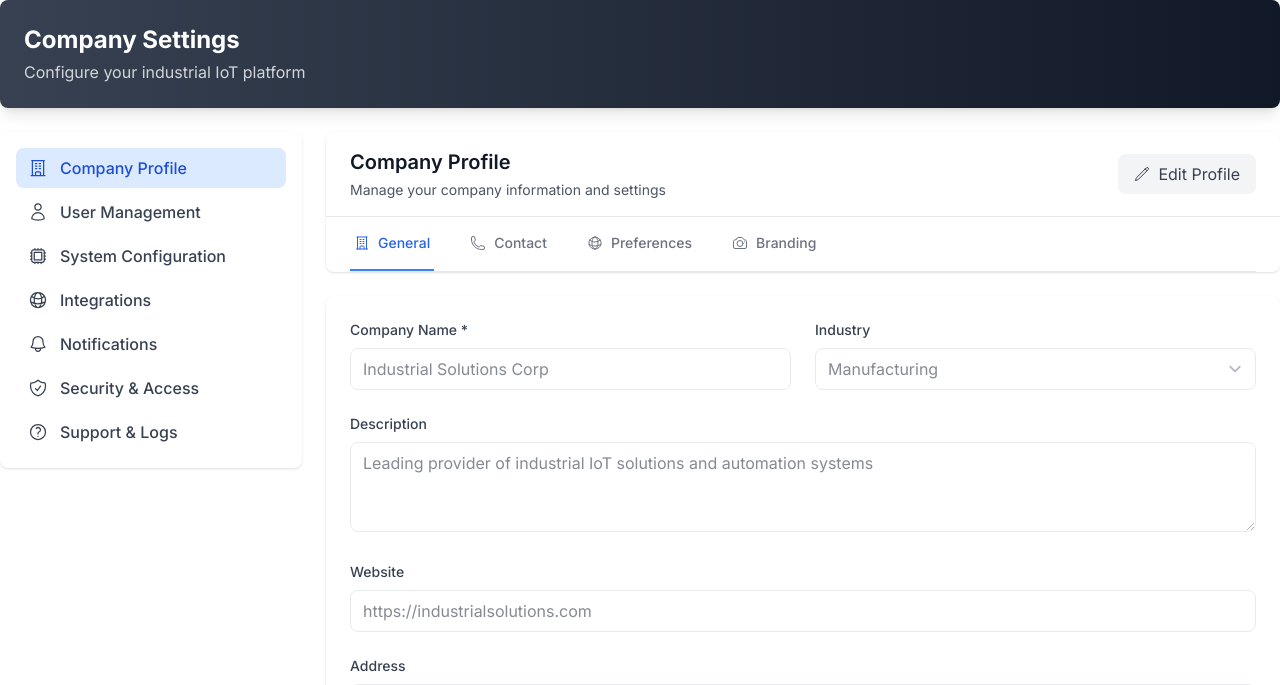
Test: CompanySettings › shows placeholder for security section
Click the button "Security & Access".
click(151, 388)  # box [16,368,286,408]
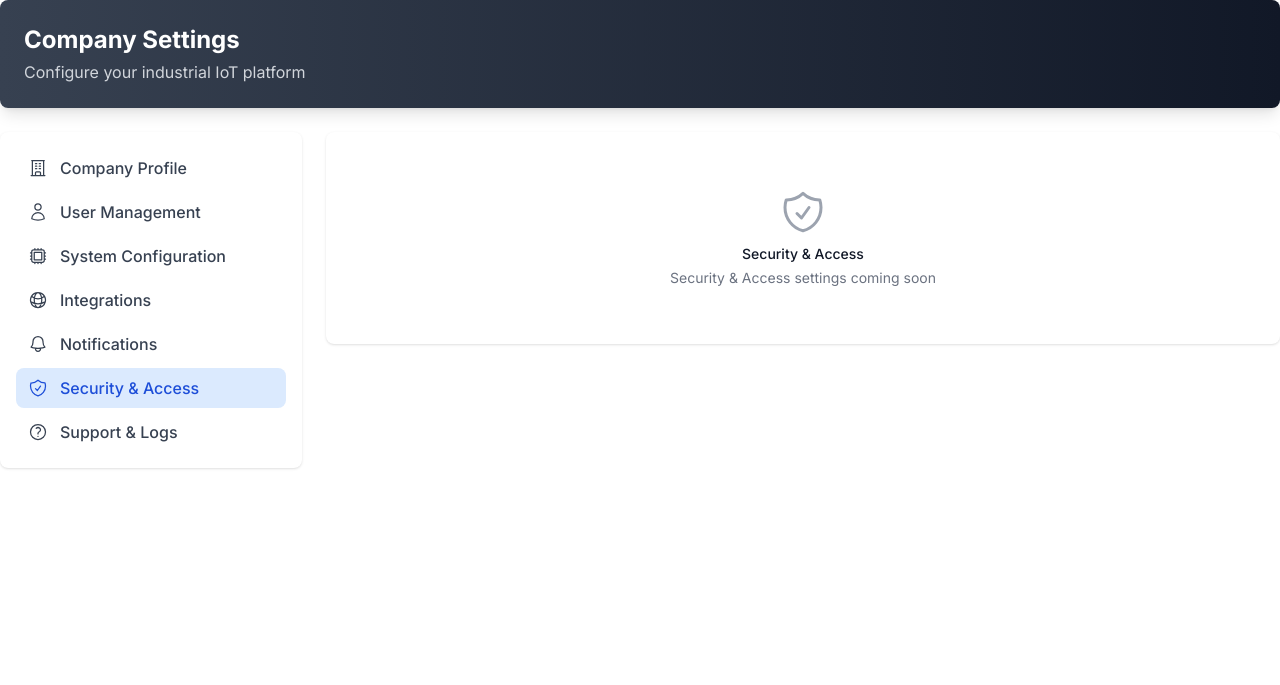
Now the text "Security & Access settings coming soon" is shown, box [670,269,936,286]
